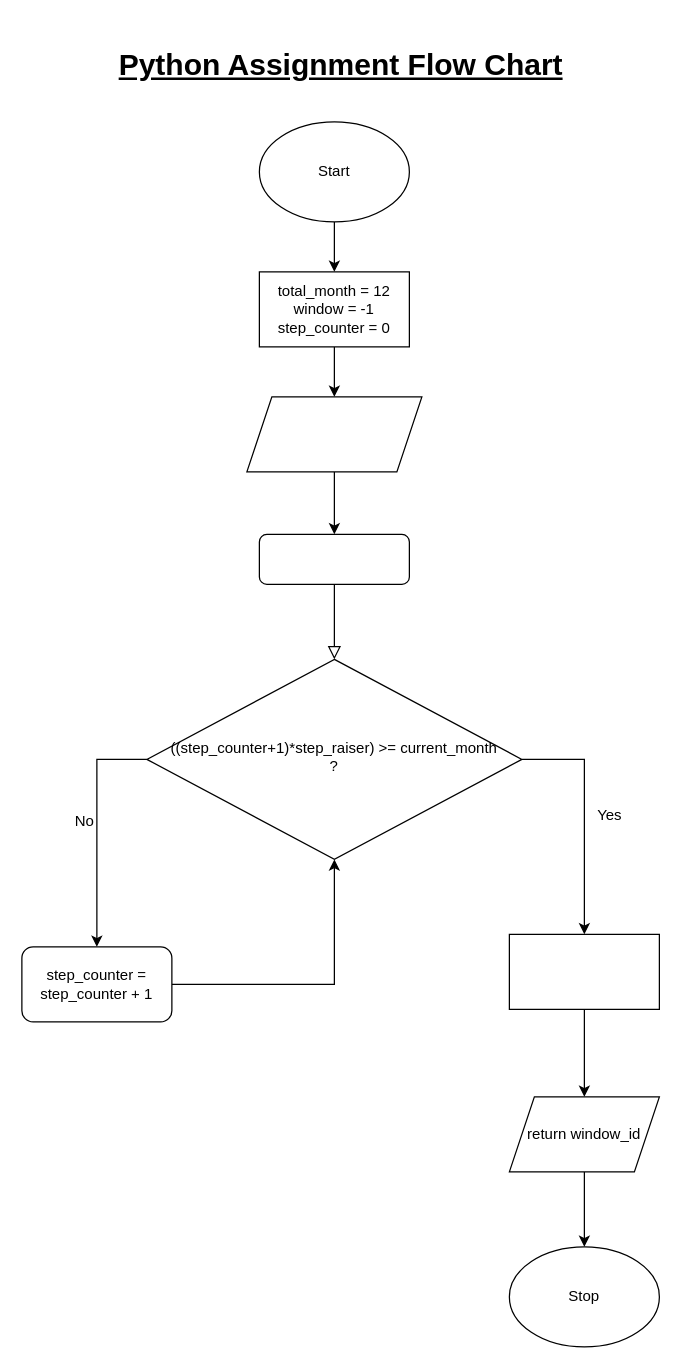
The diagram is 681 pixels wide and 1369 high, and some of its shapes have lost their labels. Here are the shapes that lost their labels. From the top down, the centre of each, then its label:
At point 334,434: "input no_of_periods, current_month".
At point 333,558: "step_raiser = total_month / no_of_periods".
At point 583,971: "window_id = step_counter".
